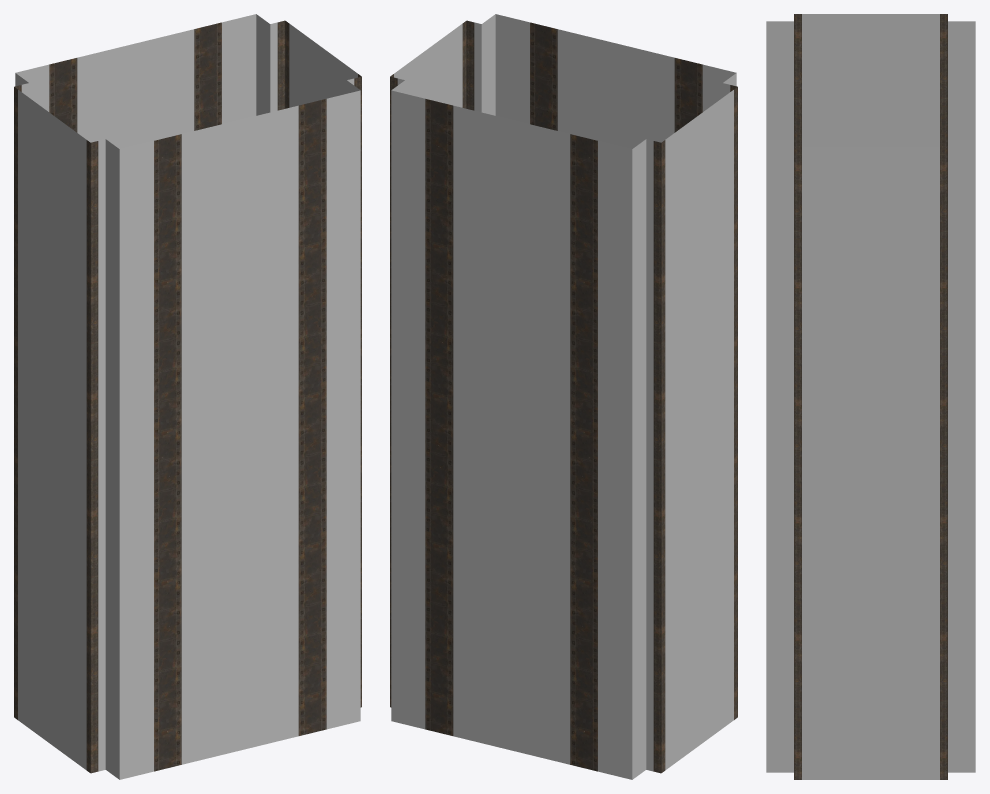
3 views of the same model, side by side, from view 1: azimuth 30°, elevation 25°; view 2: azimuth 150°, elevation 25°; view 3: azimuth 270°, elevation 25° (orthographic).
Parts seen in each view (by area): view 1: SM_Dowdun_Bridge_L_Pillar_01_LOD0; view 2: SM_Dowdun_Bridge_L_Pillar_01_LOD0; view 3: SM_Dowdun_Bridge_L_Pillar_01_LOD0.
Boxes of the visible parts, bbox=[...] form: SM_Dowdun_Bridge_L_Pillar_01_LOD0: bbox=[14, 14, 361, 779]; SM_Dowdun_Bridge_L_Pillar_01_LOD0: bbox=[390, 14, 737, 779]; SM_Dowdun_Bridge_L_Pillar_01_LOD0: bbox=[766, 14, 975, 779].
Bounding box in the file's own units: 9 × 20 × 6.
2 materials, 1 textured.
